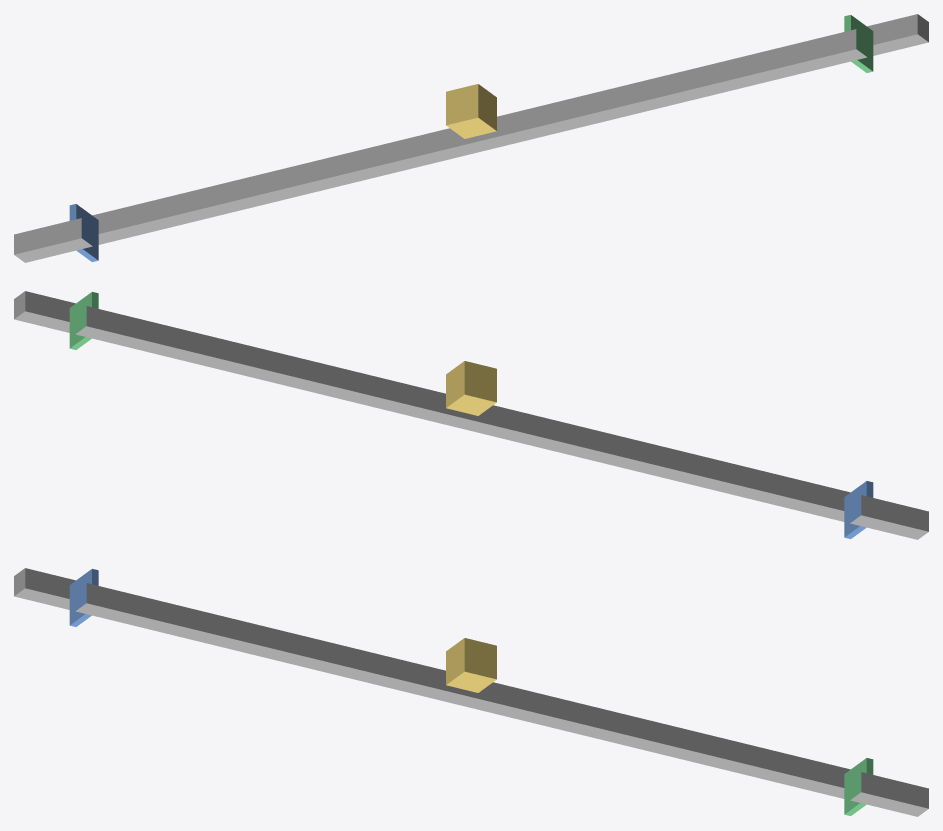
Rendered from fiber_stage.glb.
The picture shows the model from 3 angles, top to bottom: view 1: azimuth 30°, elevation 25°; view 2: azimuth 150°, elevation 25°; view 3: azimuth 330°, elevation 25°; orthographic projection.
Parts seen in each view (by area): view 1: fiber_stage_rail, fiber_bundle_holder, preset_deepspec, preset_highspec; view 2: fiber_stage_rail, fiber_bundle_holder, preset_deepspec, preset_highspec; view 3: fiber_stage_rail, fiber_bundle_holder, preset_deepspec, preset_highspec.
Part boxes in pixels (box(x1,y1,x2,y2)): fiber_stage_rail: box(14, 14, 928, 262); fiber_bundle_holder: box(446, 84, 496, 138); preset_deepspec: box(69, 204, 98, 261); preset_highspec: box(844, 15, 873, 72); fiber_stage_rail: box(14, 291, 928, 539); fiber_bundle_holder: box(446, 361, 496, 415); preset_deepspec: box(844, 481, 873, 538); preset_highspec: box(69, 292, 98, 349); fiber_stage_rail: box(14, 568, 928, 816); fiber_bundle_holder: box(446, 638, 496, 692); preset_deepspec: box(69, 569, 98, 626); preset_highspec: box(844, 758, 873, 815).
Bounding box in the file's own units: 1.4 × 0.095 × 0.06.
